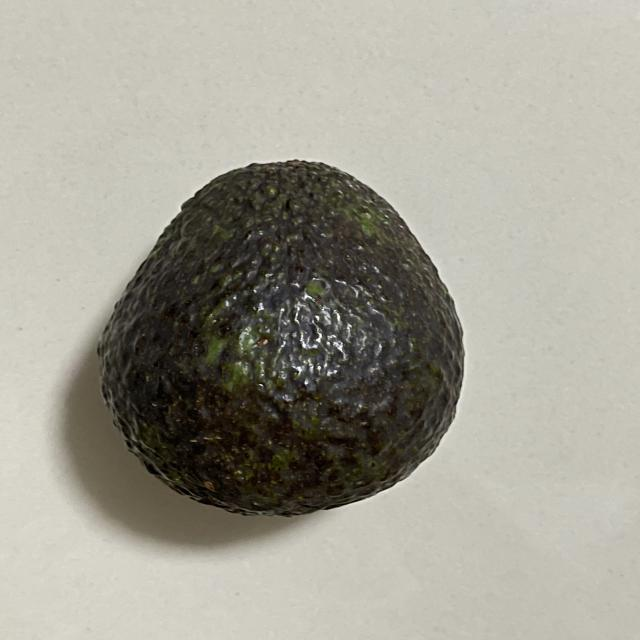Level1: (87, 145, 478, 522)
